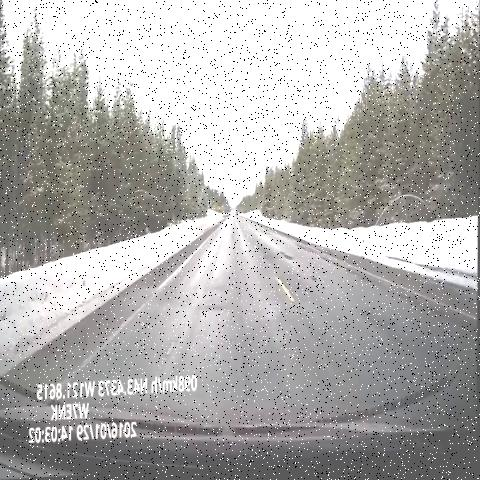pothole: (150, 319, 185, 382), (308, 266, 330, 307), (281, 242, 300, 275)
